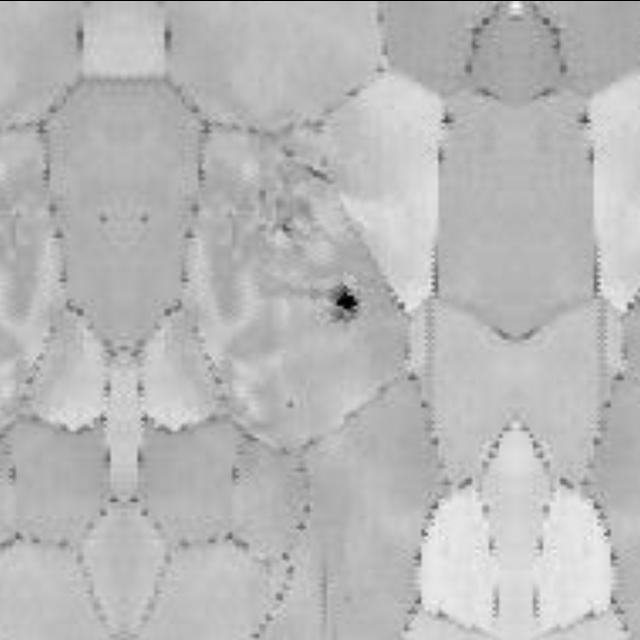good_void: (322, 282, 363, 327)
